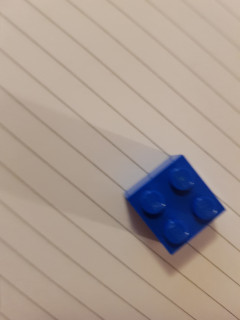2x2 blue: (124, 154, 227, 258)
